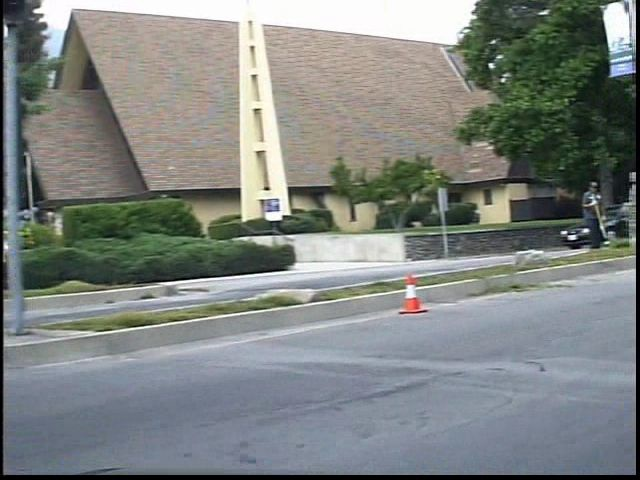person: (587, 175, 620, 256)
